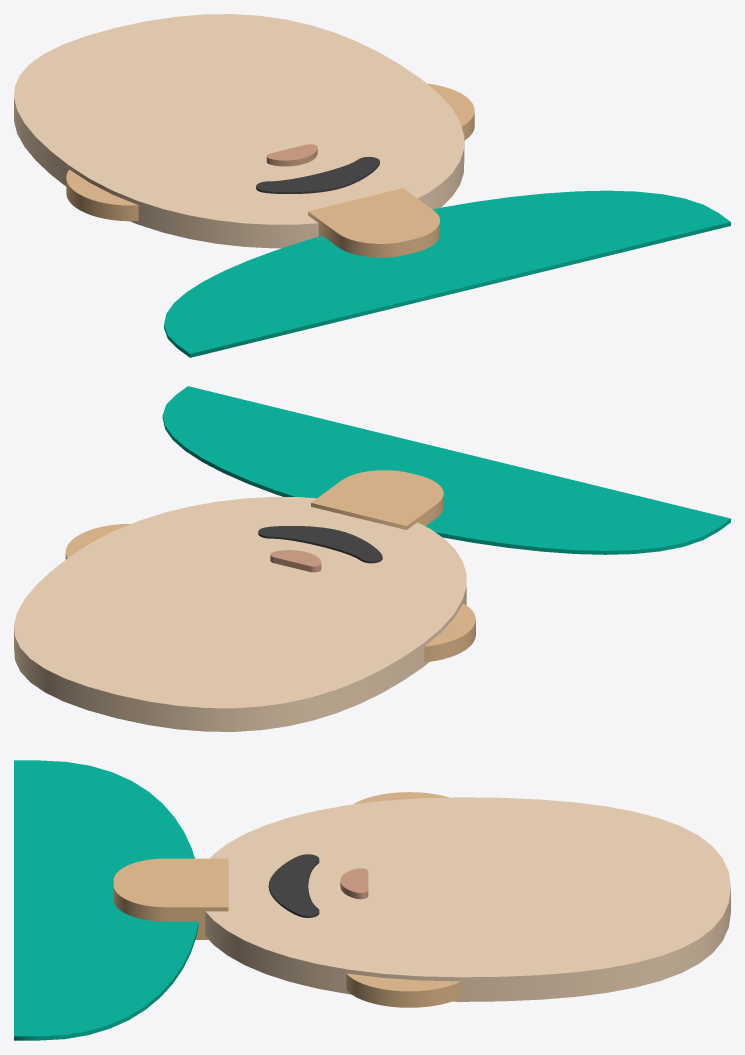
Rendered from emoji_u1f468_1f3fb_200d_1f9b2.glb.
The picture shows the model from 3 angles, top to bottom: view 1: azimuth 30°, elevation 25°; view 2: azimuth 150°, elevation 25°; view 3: azimuth 270°, elevation 25°; orthographic projection. The views are drawn at different scales.
Parts seen in each view (by area): view 1: emoji_u1f468_1f3fb_200d_1f9b2; view 2: emoji_u1f468_1f3fb_200d_1f9b2; view 3: emoji_u1f468_1f3fb_200d_1f9b2.
Part boxes in pixels (bbox=[...]): emoji_u1f468_1f3fb_200d_1f9b2: bbox=[14, 14, 730, 357]; emoji_u1f468_1f3fb_200d_1f9b2: bbox=[14, 386, 730, 731]; emoji_u1f468_1f3fb_200d_1f9b2: bbox=[14, 760, 730, 1040].
Size of the model in its own units: 0.0289 by 0.0018 by 0.0317.
